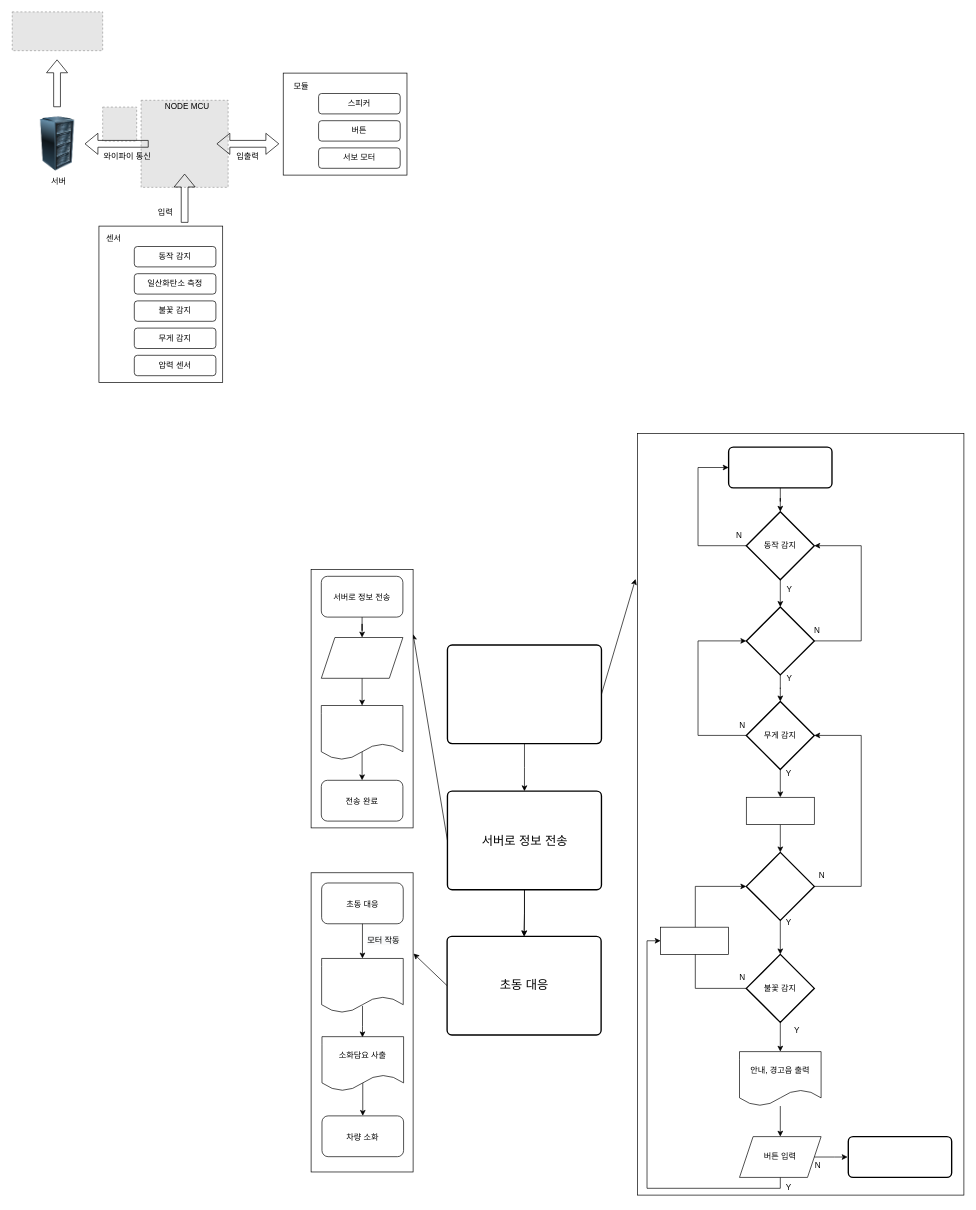
This 976x1210 diagram has some shape labels left out. Grey dashed boxes stand in for pictures. The centre of each missing label's shape, as x and y in pixels:
"119 다매체 신고서비스를 활용한 신고" goes at point 362,732.
"WI-FI를 통해 보드로부터 정보 수신" goes at point 362,657.
"단순 주차" goes at point 780,811.
"보관함 개방" goes at point 362,985.
"사용자의 버튼 입력 / 센서의 이상 신호 감지" goes at point 524,694.
"센서에 무언가 감지" goes at point 780,467.
"압력 감지" goes at point 780,640.
"일산화탄소 감지" goes at point 780,886.
"화재 감지 다음 상황 진행" goes at point 899,1157.
"흡연으로 간주" goes at point 694,940.
